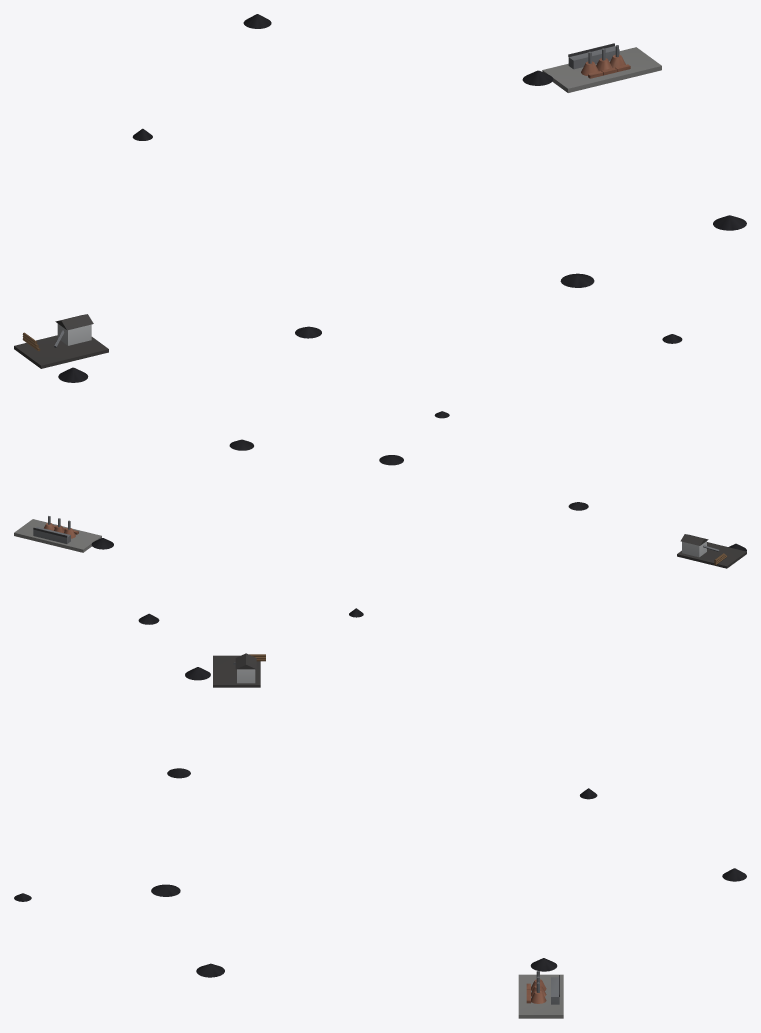
The model's file is Theme_P1.fbx.
3 renders of one model, top to bottom at view 1: azimuth 30°, elevation 25°; view 2: azimuth 150°, elevation 25°; view 3: azimuth 270°, elevation 25°, orthographic. The views are drawn at different scales.
Visible parts, largest first — view 1: Theme.CokeOvens, Theme.Screens; view 2: Theme.CokeOvens, Theme.Screens; view 3: Theme.CokeOvens, Theme.Screens.
Boxes of the visible parts, x1,y1,x2,y2 form: Theme.CokeOvens: (542,43,661,92); Theme.Screens: (14,314,108,368); Theme.CokeOvens: (14,516,101,552); Theme.Screens: (677,534,746,568); Theme.CokeOvens: (518,971,563,1018); Theme.Screens: (213,653,265,687).
Size of the model in its own units: 30442 by 1761 by 27750.
